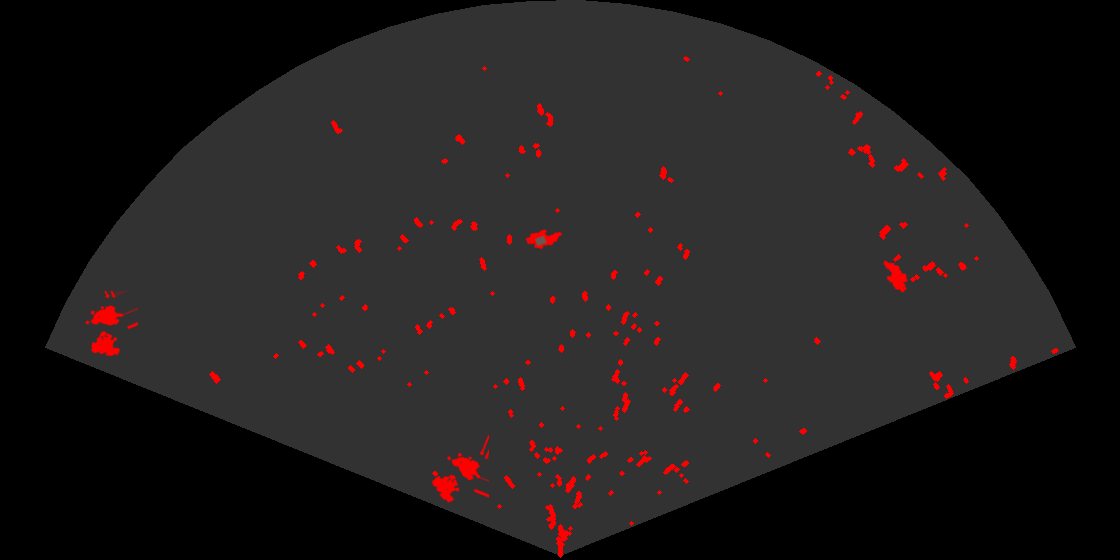AUV: (882, 259, 909, 294), (524, 228, 564, 251)
cage: (430, 435, 489, 505), (84, 291, 138, 358)
